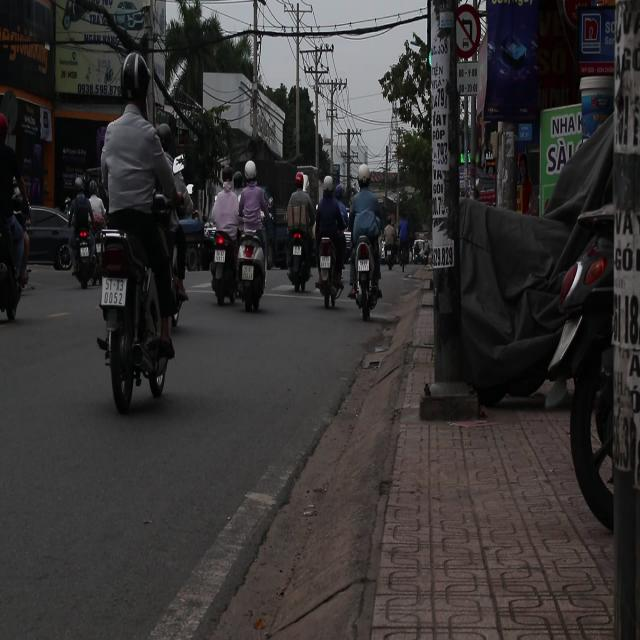car: (24, 204, 74, 270)
motorbike: (95, 219, 176, 412), (232, 224, 268, 312), (0, 209, 28, 322), (352, 222, 380, 326), (69, 215, 103, 291), (314, 229, 340, 320), (286, 226, 311, 293), (182, 222, 215, 272)
